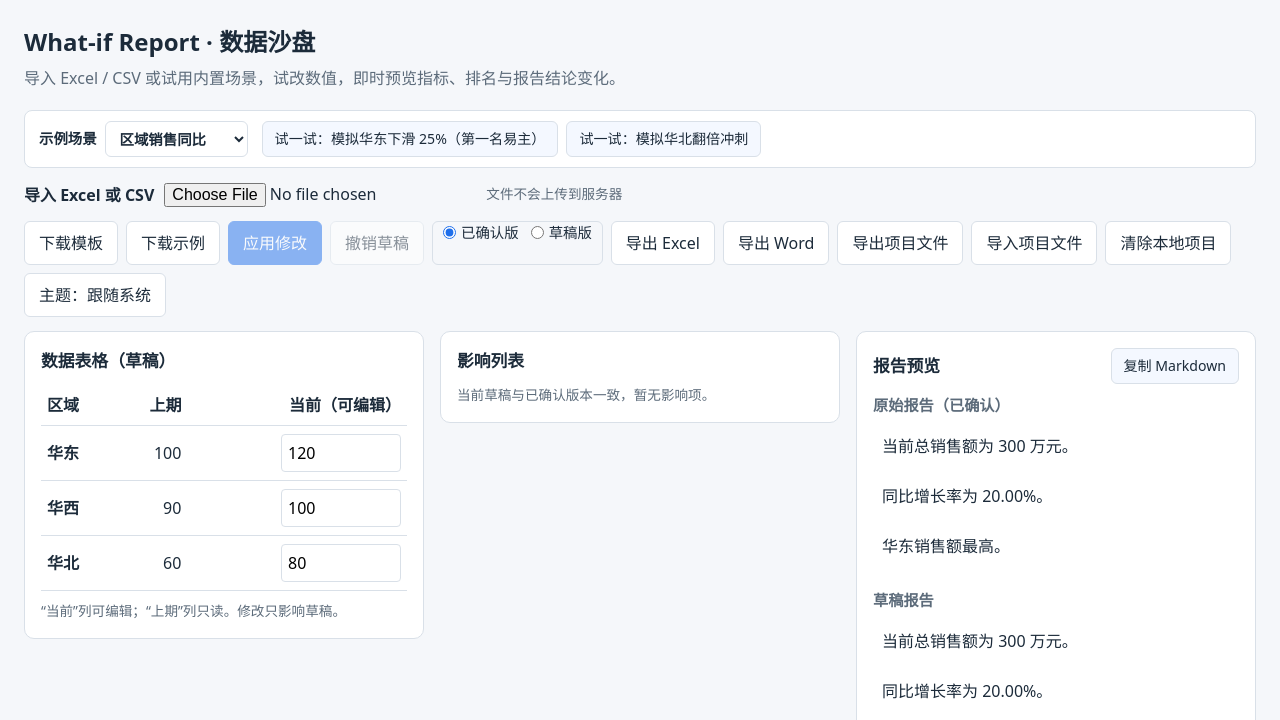
Test: impact preview › previews the east edit and navigates to evidence
Replace the text in the number field named "华东当前销售额" with "90" at (341, 453), box 281,434 -> 401,472
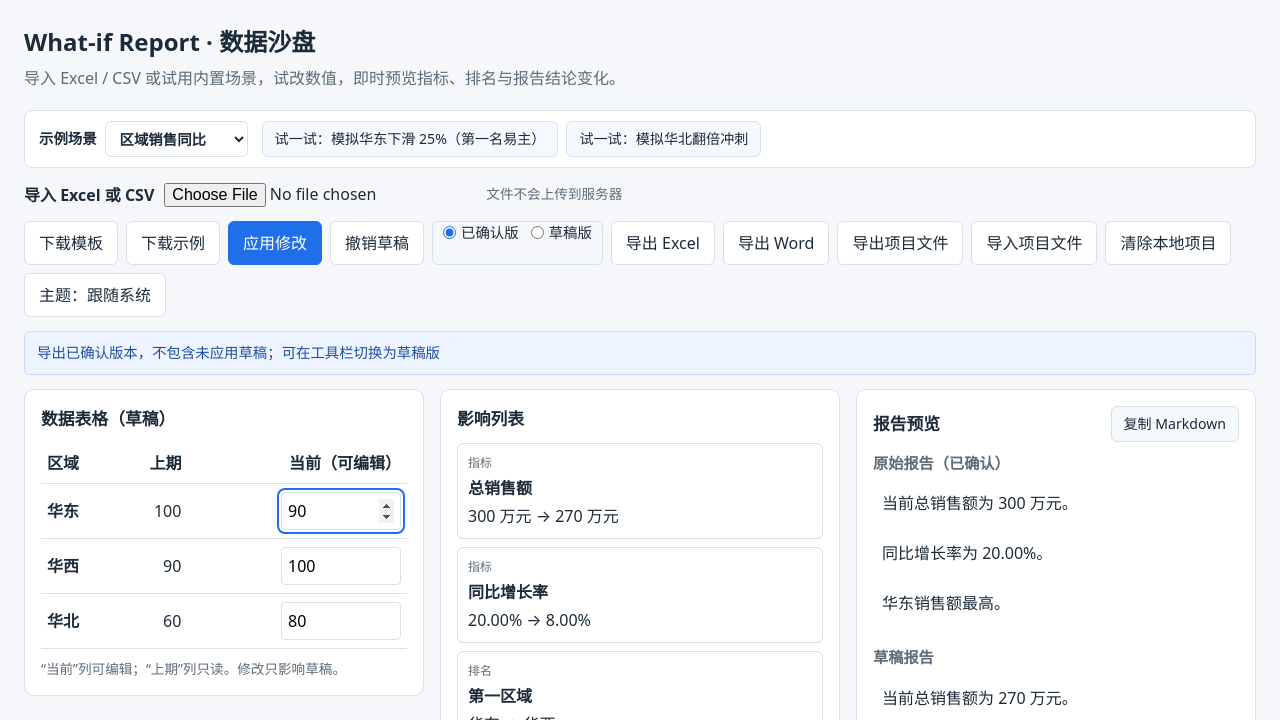
Result: the text "300 万元 → 270 万元" is shown at 468,504 -> 619,528
Result: the text "20.00% → 8.00%" is shown at 468,608 -> 591,632
Click the button with aria-label "查看总销售额来源" at (500, 488), box 457,443 -> 823,539
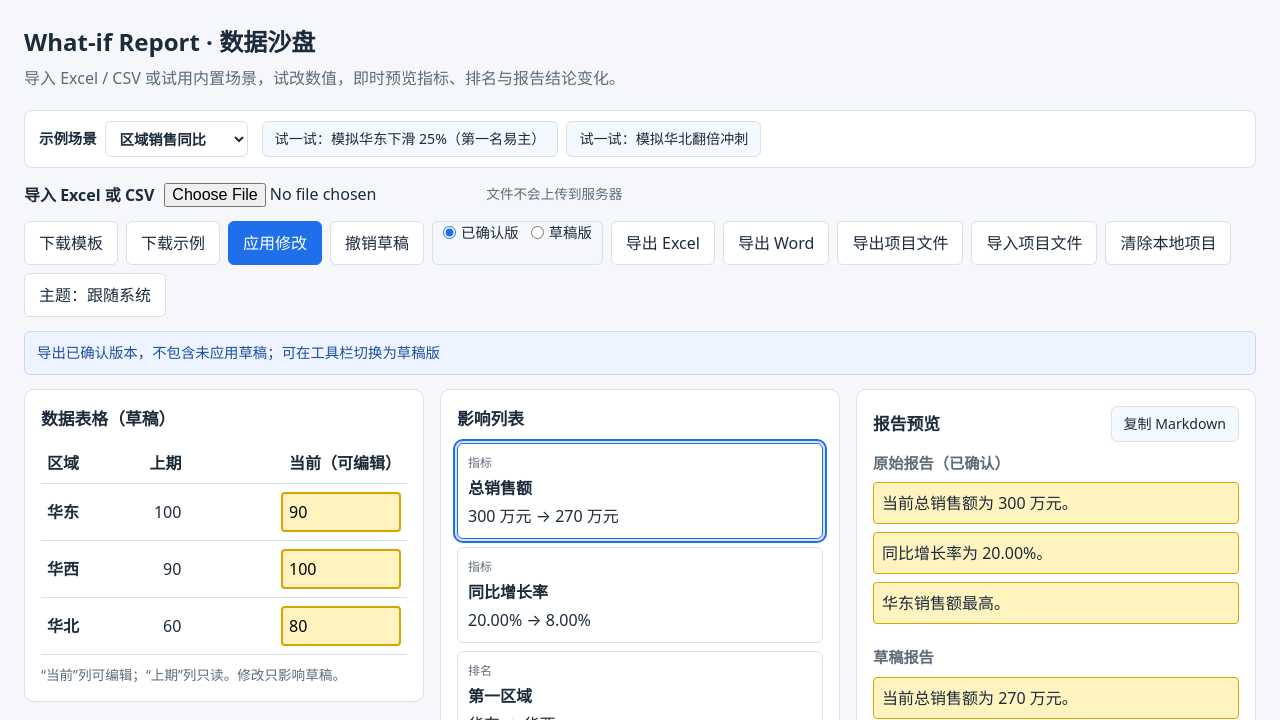
Result: the number field named "华东当前销售额" has class "source-cell" at 281,492 -> 401,532
Result: the text "当前总销售额为 270 万元。" has class "source-report" at 873,677 -> 1239,719
